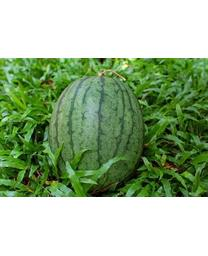watermelon: (47, 75, 141, 185)
